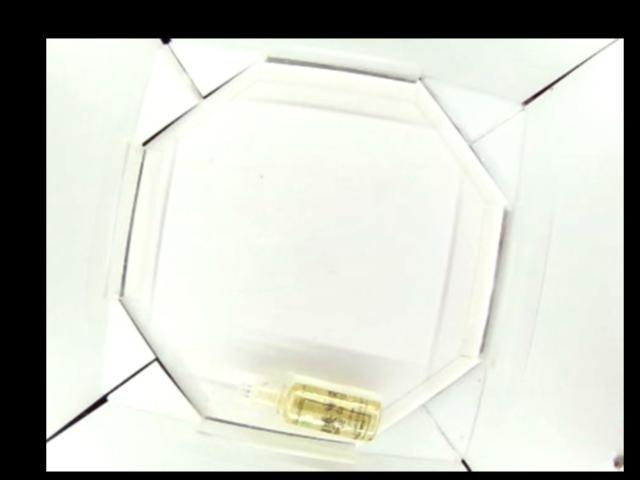Bottle: (236, 371, 384, 441)
